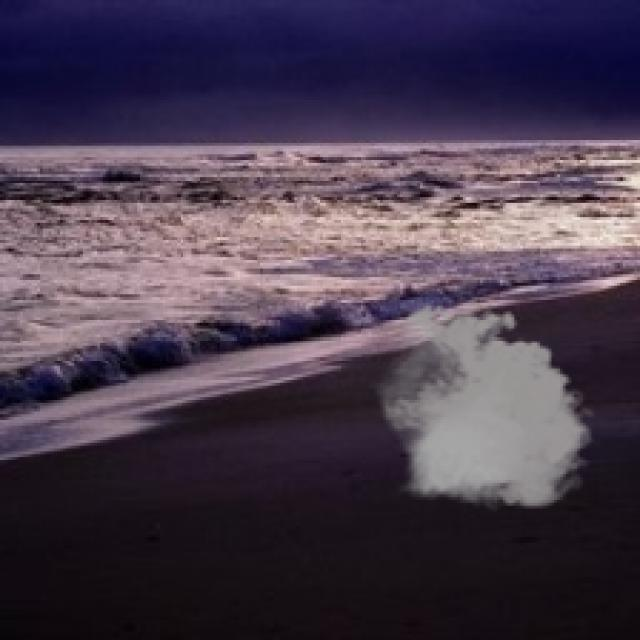smoke: (369, 297, 600, 517)
